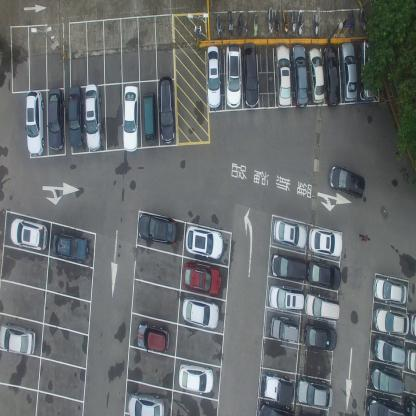car: (182, 261, 222, 296), (10, 216, 48, 251), (137, 213, 178, 245), (185, 224, 223, 258), (157, 75, 176, 143), (327, 165, 365, 199), (358, 38, 378, 101), (296, 376, 334, 409), (85, 82, 103, 151), (182, 298, 220, 330), (26, 89, 44, 156), (290, 44, 309, 107), (0, 322, 36, 355), (262, 371, 294, 408), (122, 83, 139, 152), (274, 43, 292, 108), (272, 218, 308, 250), (178, 362, 214, 394), (47, 87, 65, 150), (136, 321, 170, 354), (242, 42, 259, 108), (322, 44, 340, 106), (67, 84, 84, 148), (307, 258, 341, 290), (52, 231, 88, 261), (340, 42, 358, 102), (304, 291, 340, 321), (225, 42, 241, 108), (308, 226, 343, 256), (267, 284, 304, 312), (306, 48, 324, 105), (370, 364, 403, 395), (303, 322, 337, 352), (374, 306, 410, 334), (270, 254, 307, 281), (372, 276, 407, 304), (206, 44, 221, 109), (127, 391, 165, 416), (374, 335, 405, 365), (270, 313, 299, 343), (366, 394, 404, 415), (143, 91, 157, 141), (257, 400, 294, 416), (406, 346, 415, 374), (405, 394, 415, 416), (408, 312, 416, 336)
